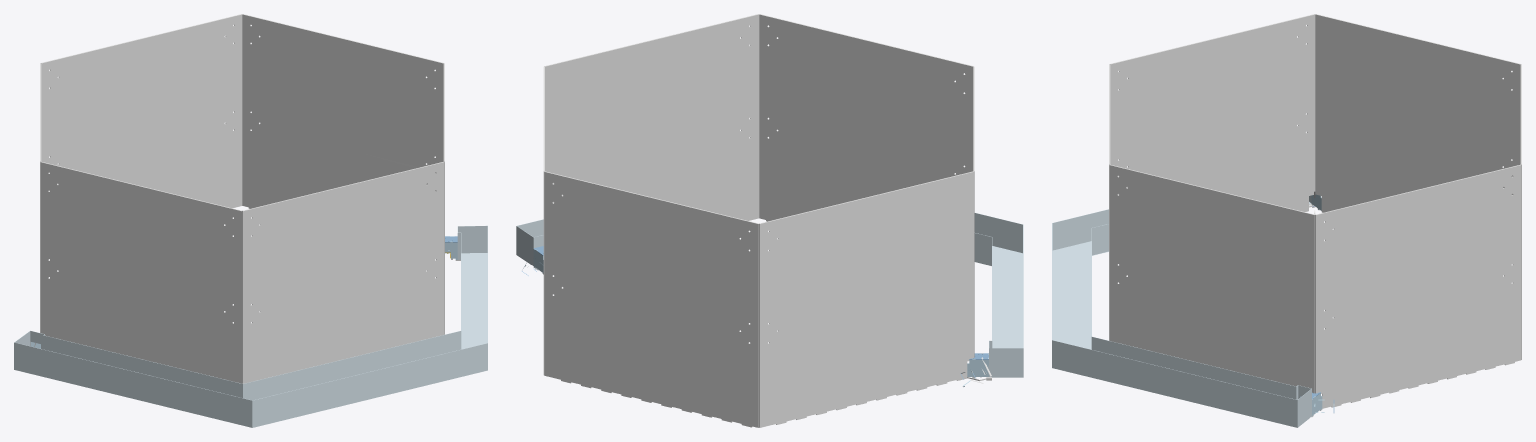
File: Maze_Corridor_latest.fbx
3 views of the same model, side by side, from view 1: azimuth 30°, elevation 25°; view 2: azimuth 150°, elevation 25°; view 3: azimuth 270°, elevation 25° (orthographic). The views are drawn at different scales.
Visible parts, largest first — view 1: mesh0; view 2: mesh0; view 3: mesh0.
Boxes of the visible parts, left/top/right/bottom form: mesh0: left=14, top=14, right=487, bottom=427; mesh0: left=516, top=14, right=1023, bottom=427; mesh0: left=1052, top=14, right=1521, bottom=427.
Bounding box in the file's own units: 233 × 277 × 110.
